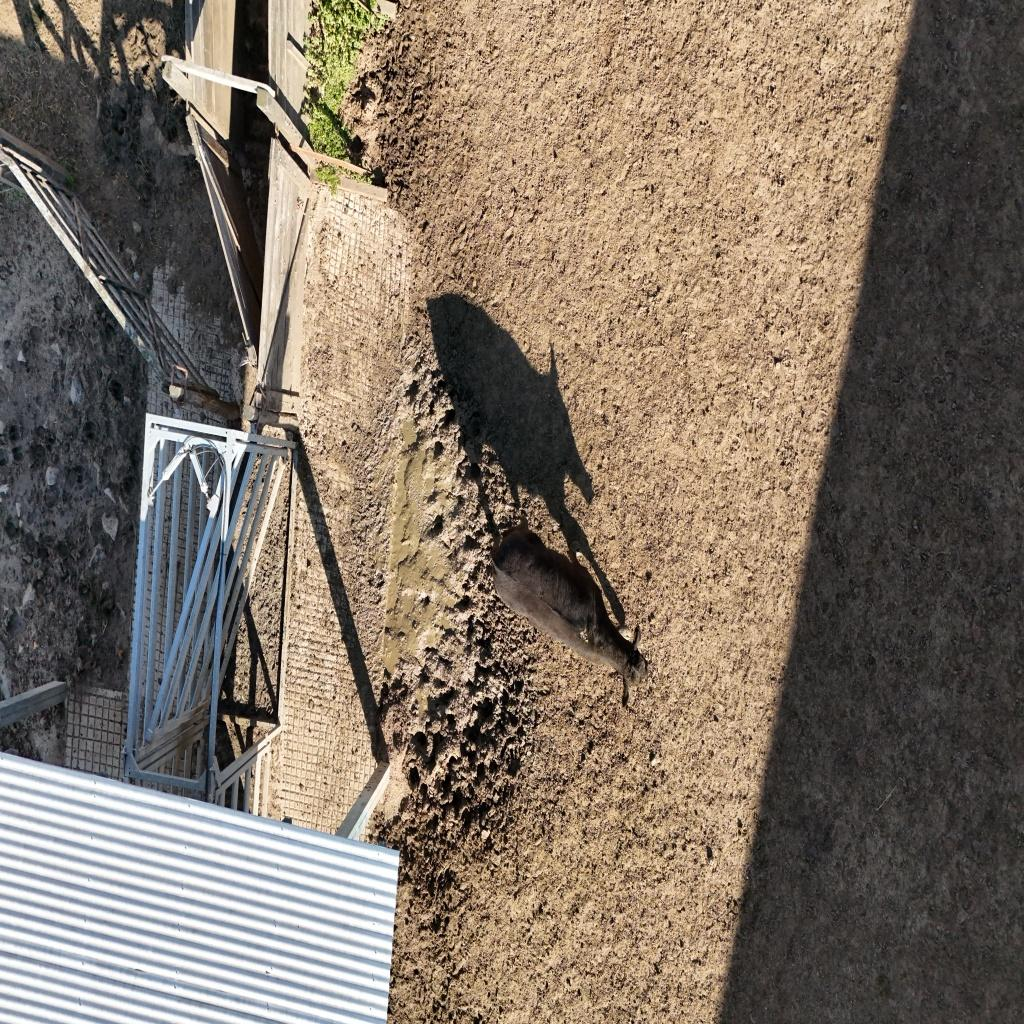cow: (466, 528, 652, 710)
